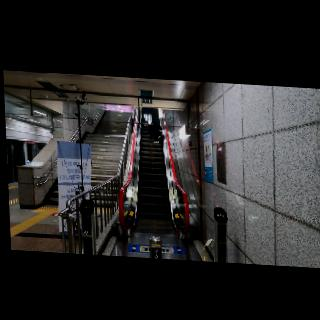anomaly: (143, 123, 164, 145)
normal: (144, 105, 155, 126)
